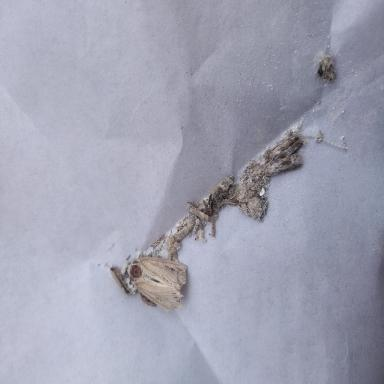abw: (125, 256, 188, 312)
pbw: (264, 133, 304, 163), (264, 153, 303, 176), (110, 266, 133, 295), (174, 221, 194, 242), (187, 205, 204, 220), (196, 209, 212, 223), (151, 235, 164, 247), (211, 218, 216, 237)
